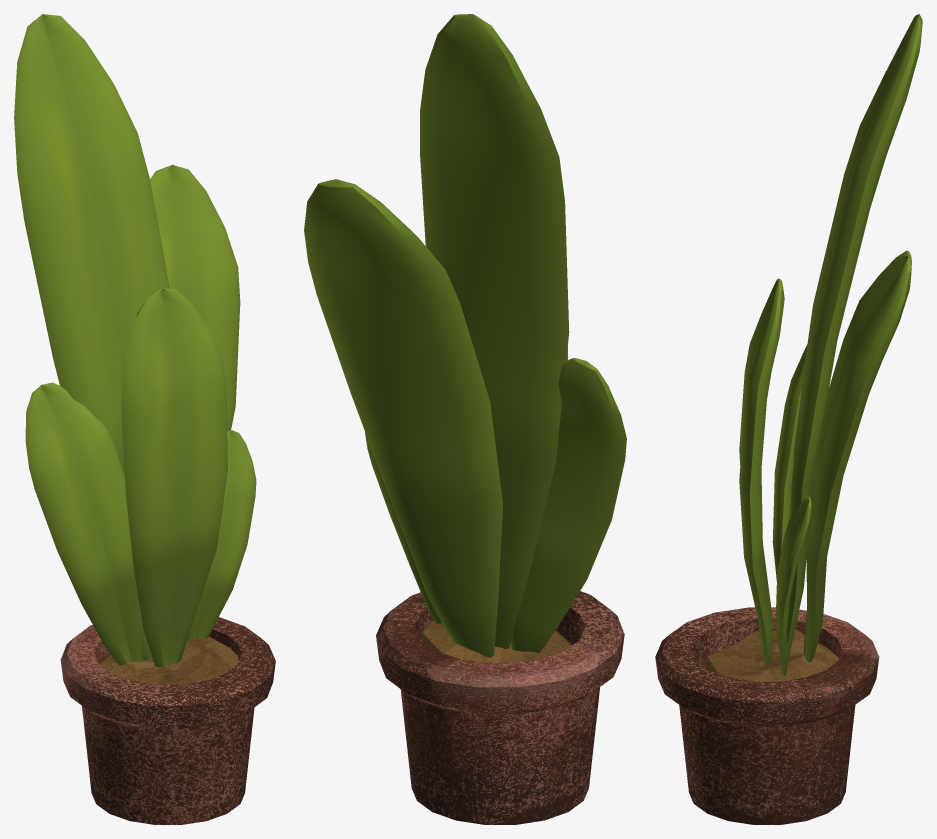
Rendered from Tree_pot.fbx.
3 renders of one model, left to right at view 1: azimuth 30°, elevation 25°; view 2: azimuth 150°, elevation 25°; view 3: azimuth 270°, elevation 25°, orthographic. The views are drawn at different scales.
Parts seen in each view (by area): view 1: Tree_pot01; view 2: Tree_pot01; view 3: Tree_pot01.
Boxes of the visible parts, x1,y1,x2,y2 form: Tree_pot01: [14, 14, 275, 824]; Tree_pot01: [304, 14, 626, 824]; Tree_pot01: [655, 14, 922, 824].
Bounding box in the file's own units: 292 × 847 × 273.
Materials: 1 (1 with a texture image).
